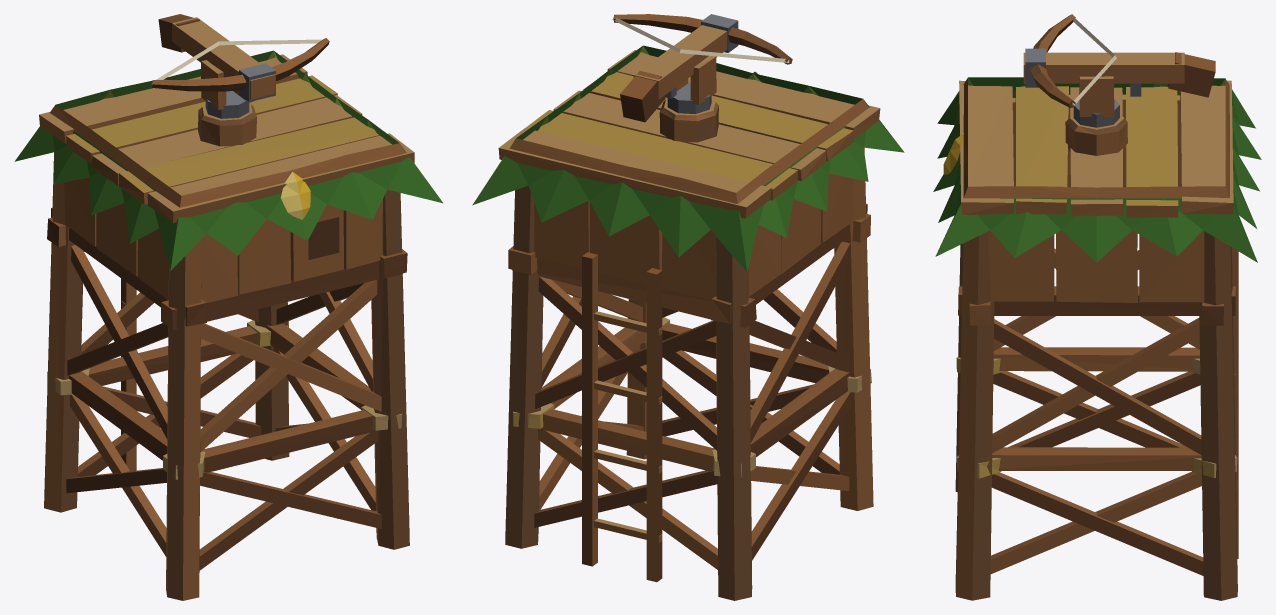
The model's file is acorn_tower_2.glb.
3 renders of one model, left to right at view 1: azimuth 30°, elevation 25°; view 2: azimuth 150°, elevation 25°; view 3: azimuth 270°, elevation 25°, orthographic. The views are drawn at different scales.
Parts seen in each view (by area): view 1: acorn_tower_2, turret, bow_string; view 2: acorn_tower_2, turret, bow_string; view 3: acorn_tower_2, turret, bow_string.
Boxes of the visible parts, x1,y1,x2,y2 form: acorn_tower_2: (14,50,442,600); turret: (152,14,329,118); bow_string: (151,39,322,84); acorn_tower_2: (472,45,904,600); turret: (614,14,792,122); bow_string: (612,17,789,62); acorn_tower_2: (933,77,1261,600); turret: (1023,14,1215,127); bow_string: (1072,17,1116,105).
Size of the model in its own units: 1.47 by 2.41 by 1.48.
